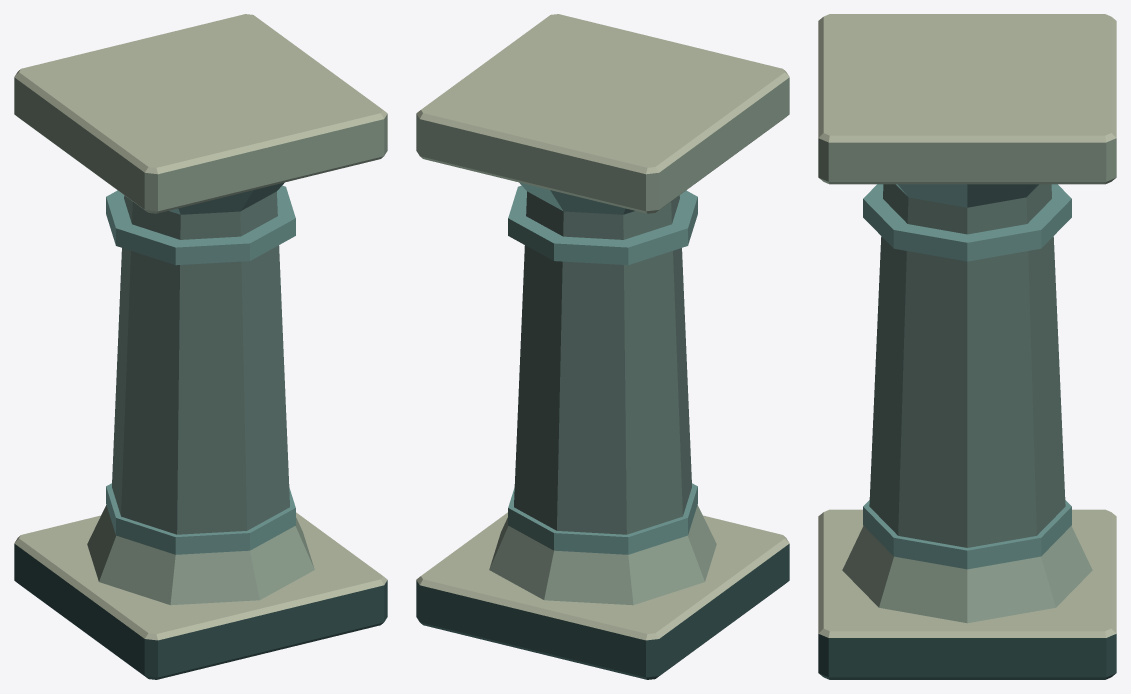
Rendered from pillar-small.glb.
3 renders of one model, left to right at view 1: azimuth 30°, elevation 25°; view 2: azimuth 150°, elevation 25°; view 3: azimuth 270°, elevation 25°, orthographic. The views are drawn at different scales.
Visible parts, largest first — view 1: pillar-small__body; view 2: pillar-small__body; view 3: pillar-small__body.
Boxes of the visible parts, bbox=[...] form: pillar-small__body: bbox=[14, 14, 387, 679]; pillar-small__body: bbox=[416, 14, 789, 679]; pillar-small__body: bbox=[818, 14, 1116, 679].
Size of the model in its own units: 0.72 by 1.45 by 0.72.
